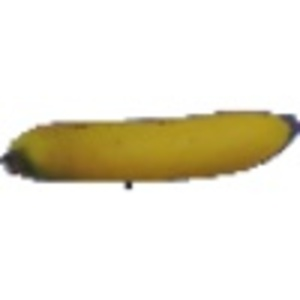banana: (1, 113, 296, 188)
